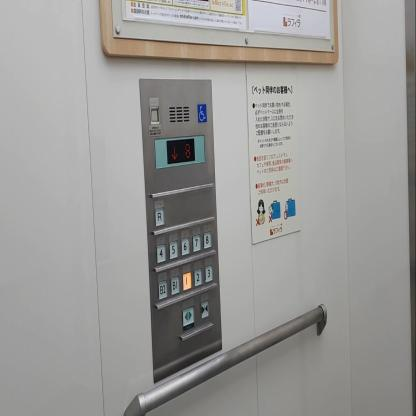1: (182, 270, 191, 291)
2: (193, 267, 202, 287)
3: (204, 263, 212, 283)
4: (156, 243, 166, 263)
5: (169, 240, 178, 260)
6: (180, 236, 190, 256)
7: (192, 233, 200, 253)
8: (202, 230, 212, 249)
B1: (170, 274, 179, 296)
B2: (158, 278, 167, 300)
CH: (196, 103, 207, 122)
R: (154, 206, 164, 226)
call: (149, 105, 160, 124)
close: (199, 298, 209, 320)
led: (166, 135, 196, 165)
open: (182, 305, 194, 330)
